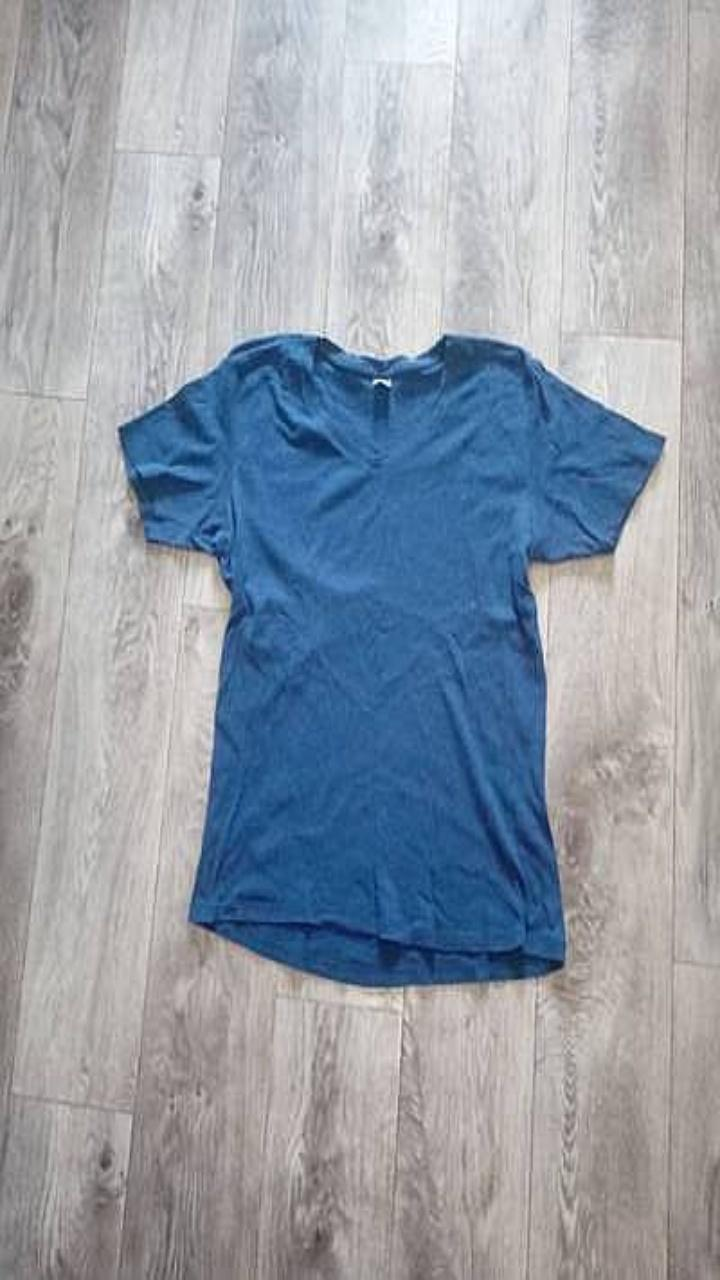T-Shirt: (117, 333, 665, 985)
